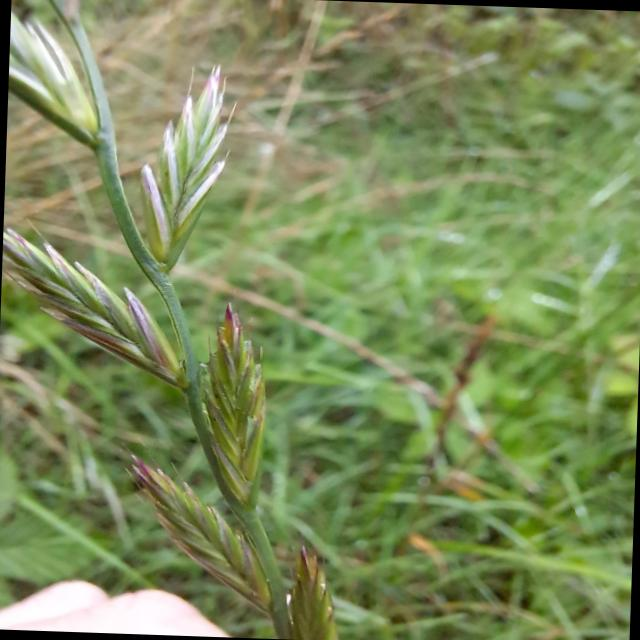Lolium: (0, 0, 361, 638)
